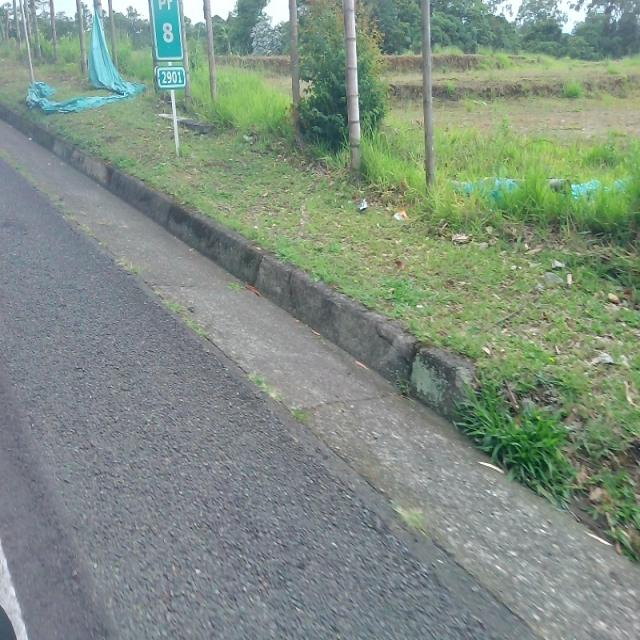DITCH: (1, 107, 638, 638), (2, 118, 638, 638), (2, 131, 638, 638)
